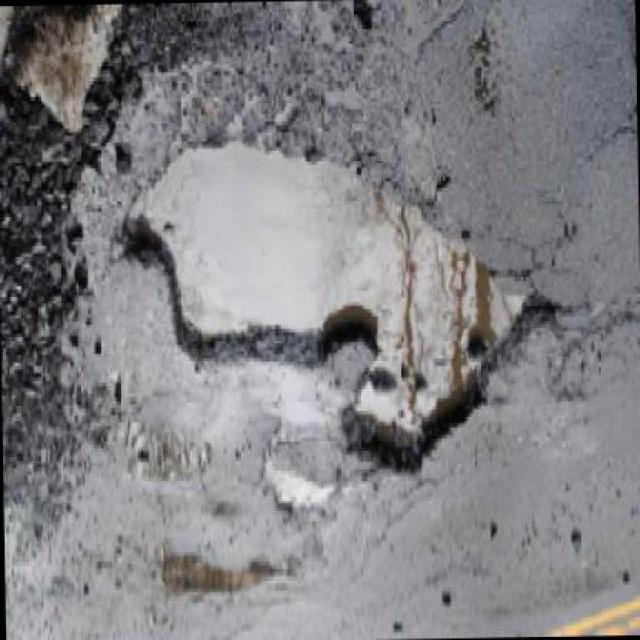pothole1: (120, 134, 562, 492), (162, 549, 286, 606), (262, 454, 336, 526)
